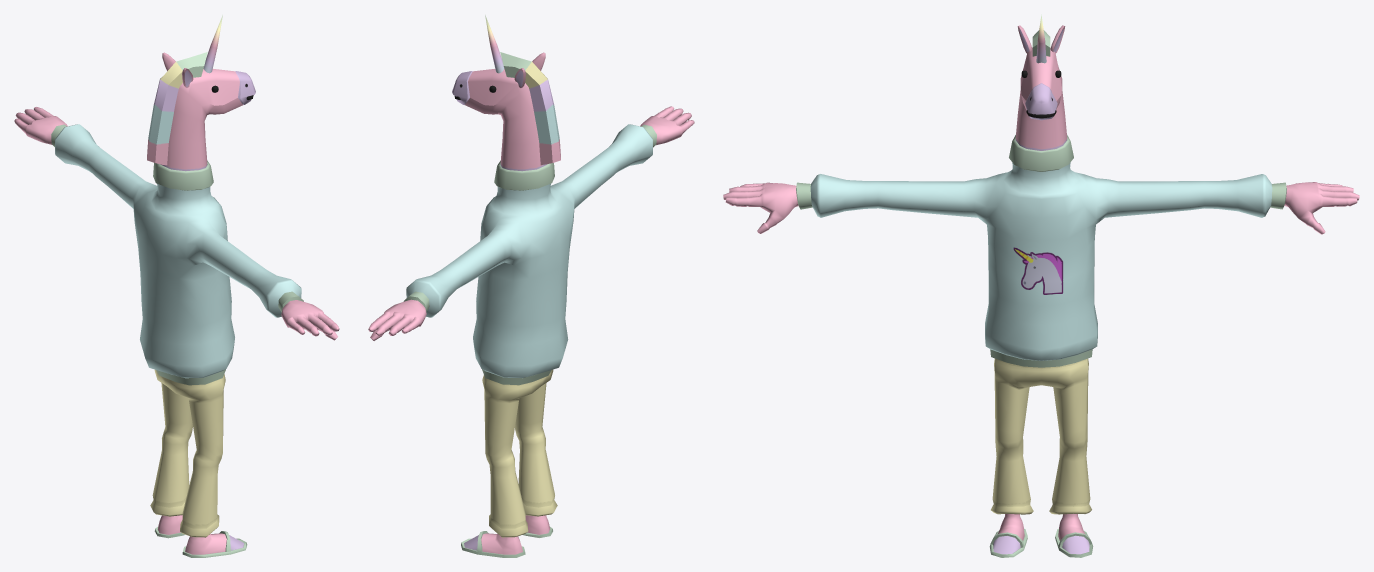
The picture shows the model from 3 angles, left to right: view 1: azimuth 30°, elevation 25°; view 2: azimuth 150°, elevation 25°; view 3: azimuth 270°, elevation 25°; orthographic projection. The views are drawn at different scales.
Visible parts, largest first — view 1: _100Avatars_110_UniconPerson; view 2: _100Avatars_110_UniconPerson; view 3: _100Avatars_110_UniconPerson.
Part boxes in pixels (<box>): _100Avatars_110_UniconPerson: <box>14,15,339,557</box>; _100Avatars_110_UniconPerson: <box>368,15,694,557</box>; _100Avatars_110_UniconPerson: <box>723,14,1359,557</box>.
Bounding box in the file's own units: 1.25 × 5.73 × 6.1.
1 material, 1 textured.
